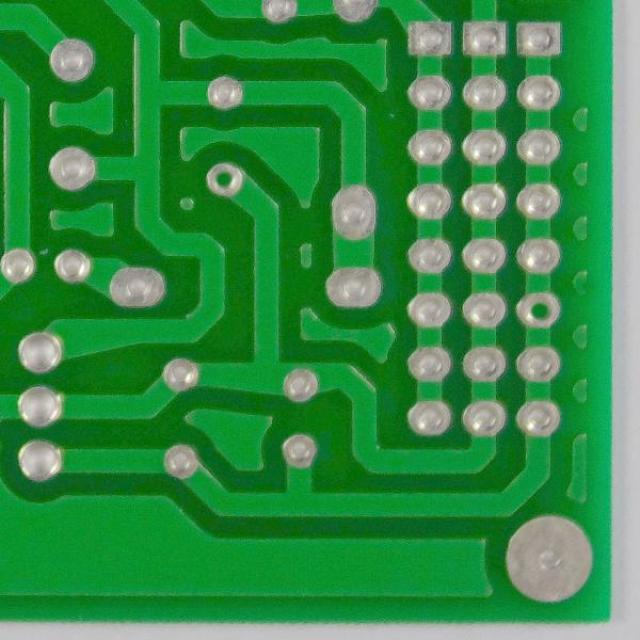Missing_Hole: (513, 289, 564, 331), (200, 160, 247, 201)
